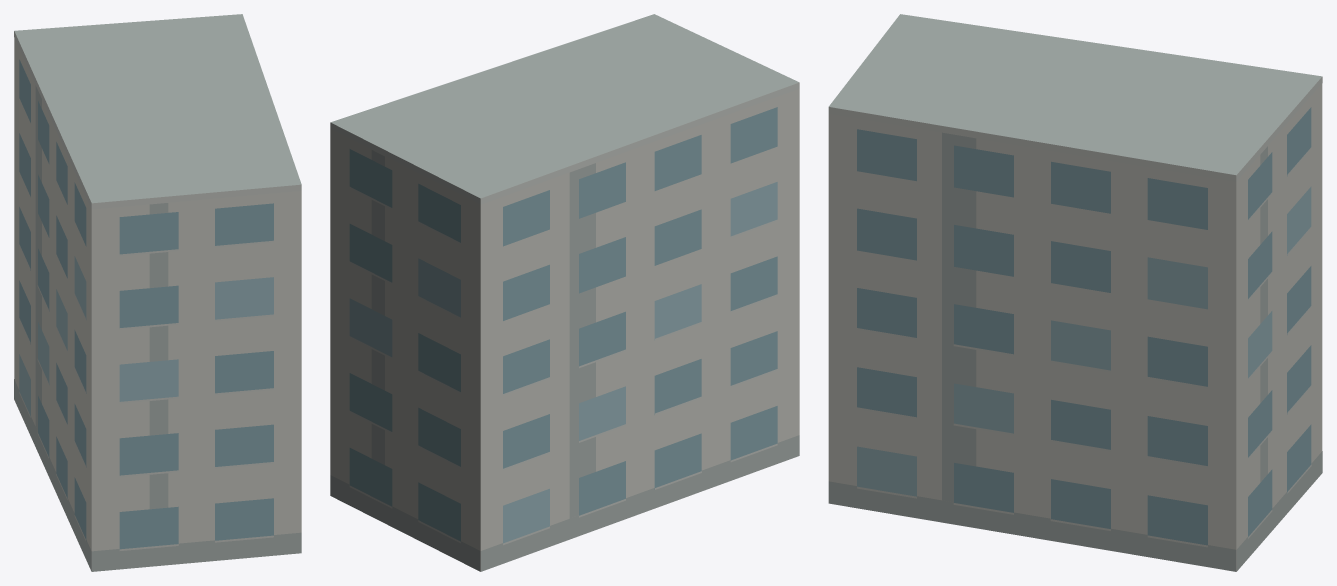
Rendered from survey-upis-32944923.glb.
3 renders of one model, left to right at view 1: azimuth 30°, elevation 25°; view 2: azimuth 150°, elevation 25°; view 3: azimuth 270°, elevation 25°, orthographic. The views are drawn at different scales.
Parts seen in each view (by area): view 1: survey-upis-32944923.tmp; view 2: survey-upis-32944923.tmp; view 3: survey-upis-32944923.tmp.
Boxes of the visible parts, x1,y1,x2,y2 form: survey-upis-32944923.tmp: (14,14,301,571); survey-upis-32944923.tmp: (330,14,799,571); survey-upis-32944923.tmp: (828,14,1322,571).
Bounding box in the file's own units: 12.39 × 14.2 × 16.04.
